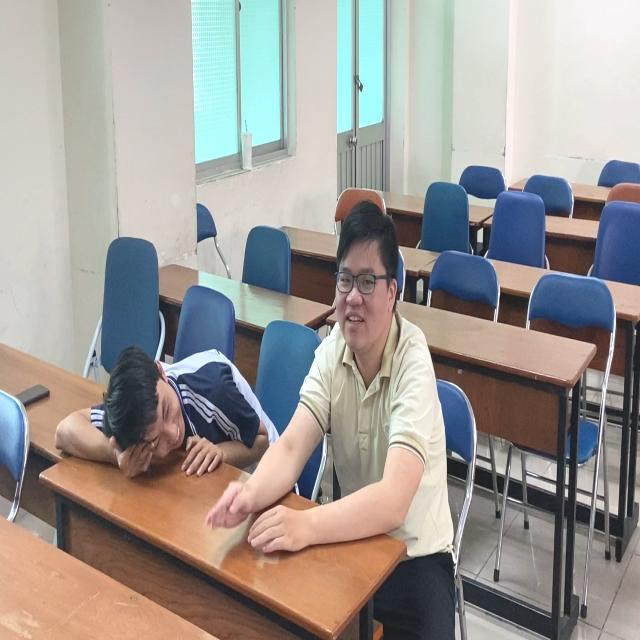sleep: (47, 320, 269, 488)
